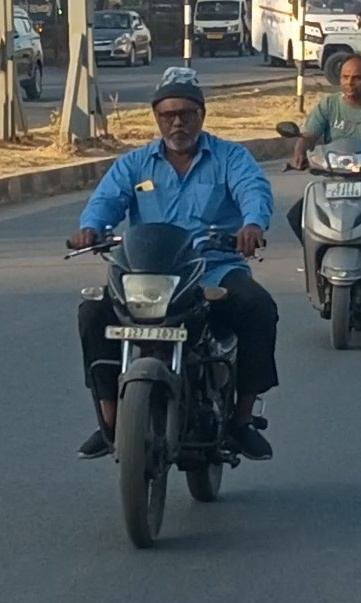BikeWithRider: (57, 65, 285, 554), (272, 50, 361, 357)
NoHelmet: (142, 65, 221, 155), (339, 50, 361, 107)
